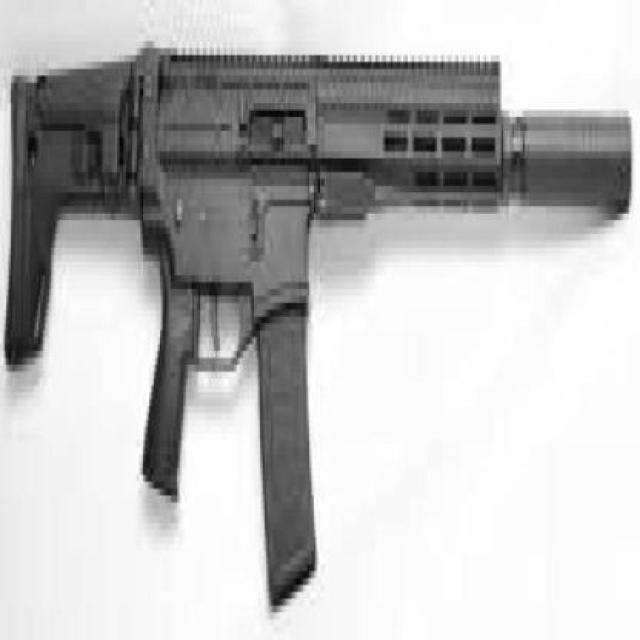weapon: (4, 44, 633, 614)
